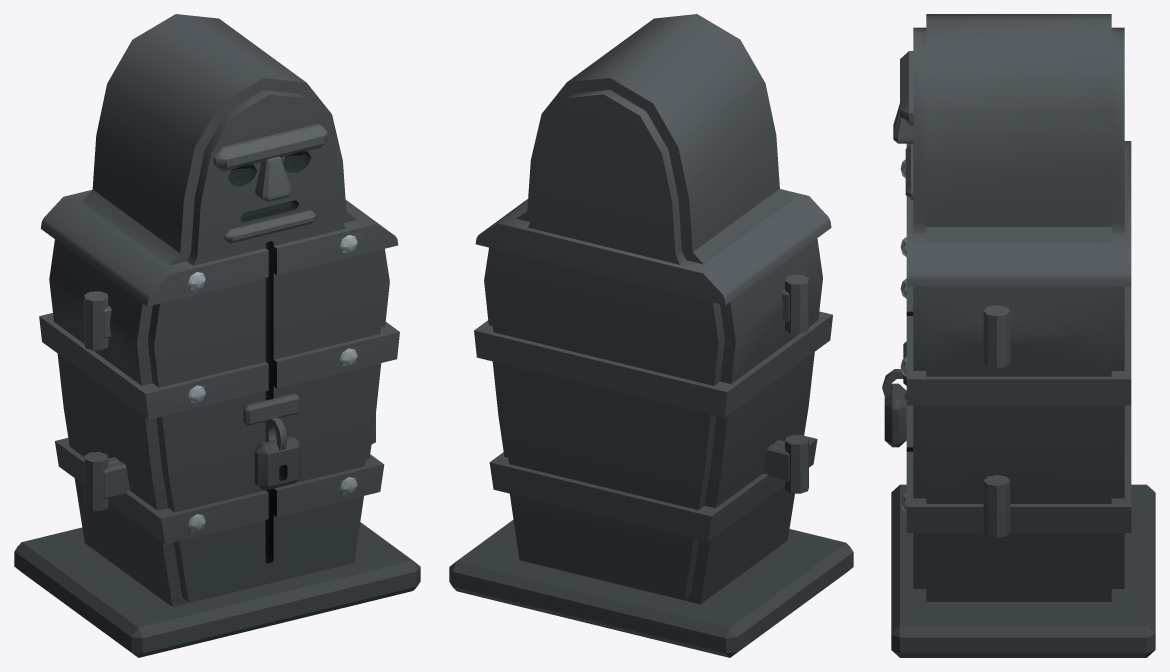
Rendered from iron_maiden.glb.
3 renders of one model, left to right at view 1: azimuth 30°, elevation 25°; view 2: azimuth 150°, elevation 25°; view 3: azimuth 270°, elevation 25°, orthographic. The views are drawn at different scales.
Visible parts, largest first — view 1: iron_maiden; view 2: iron_maiden; view 3: iron_maiden.
Boxes of the visible parts, x1=… form: iron_maiden: x1=14, y1=14, x2=420, y2=657; iron_maiden: x1=449, y1=14, x2=853, y2=657; iron_maiden: x1=882, y1=14, x2=1155, y2=657.
Bounding box in the file's own units: 1.6 × 2.84 × 1.24.
Materials: 1 (1 with a texture image).
